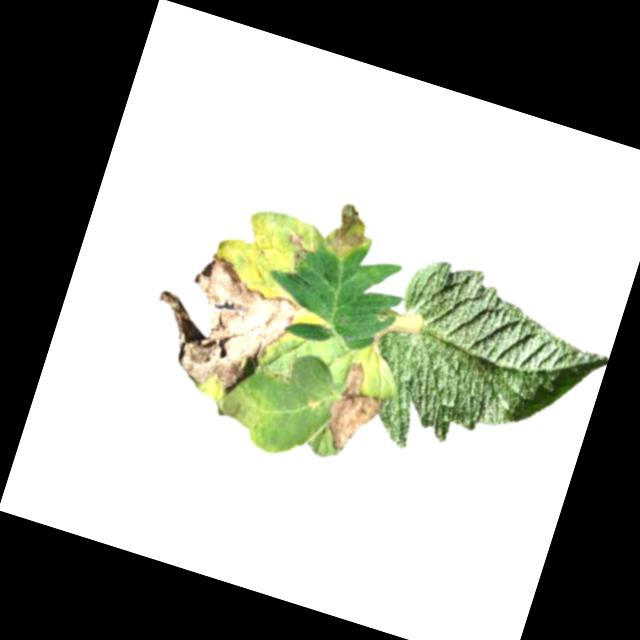Late_blight: (136, 241, 313, 409), (316, 355, 392, 460), (319, 199, 381, 268), (214, 382, 260, 428), (277, 229, 316, 275), (376, 305, 398, 326)
healthy: (351, 248, 622, 502)
